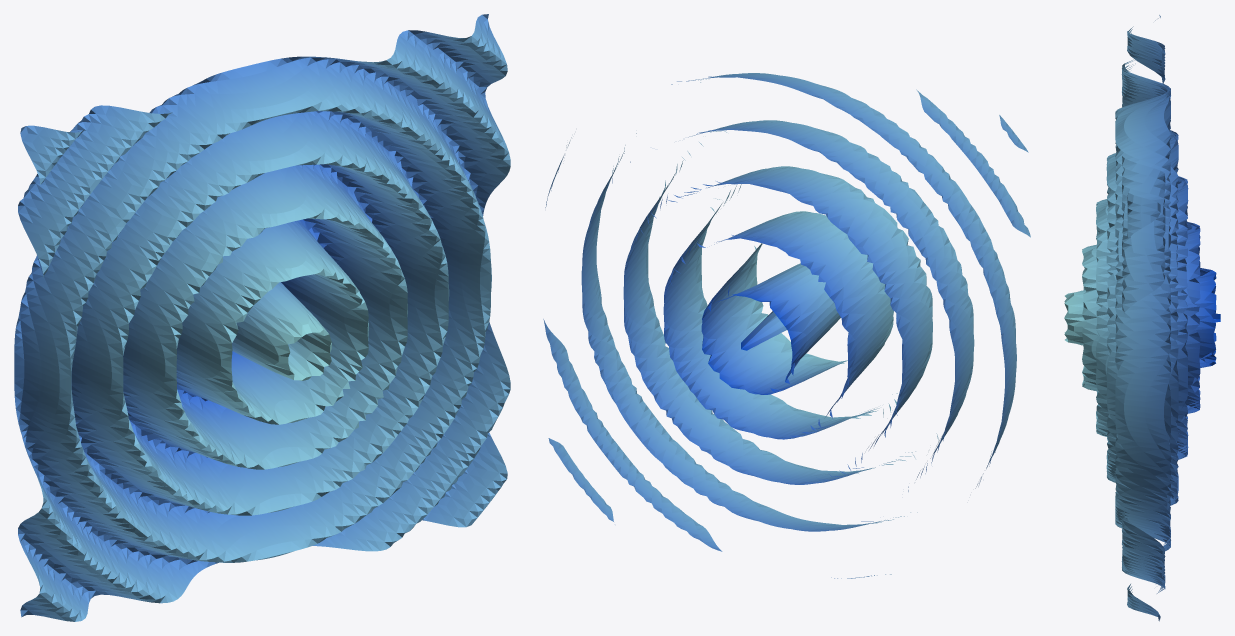
The model's file is neural_wave.glb.
The picture shows the model from 3 angles, left to right: view 1: azimuth 30°, elevation 25°; view 2: azimuth 150°, elevation 25°; view 3: azimuth 270°, elevation 25°; orthographic projection. The views are drawn at different scales.
Parts seen in each view (by area): view 1: world; view 2: world; view 3: world.
Boxes of the visible parts, bbox=[...] form: world: bbox=[14, 14, 510, 621]; world: bbox=[543, 73, 1030, 578]; world: bbox=[1064, 15, 1220, 621].
Size of the model in its own units: 200 by 200 by 68.32.
